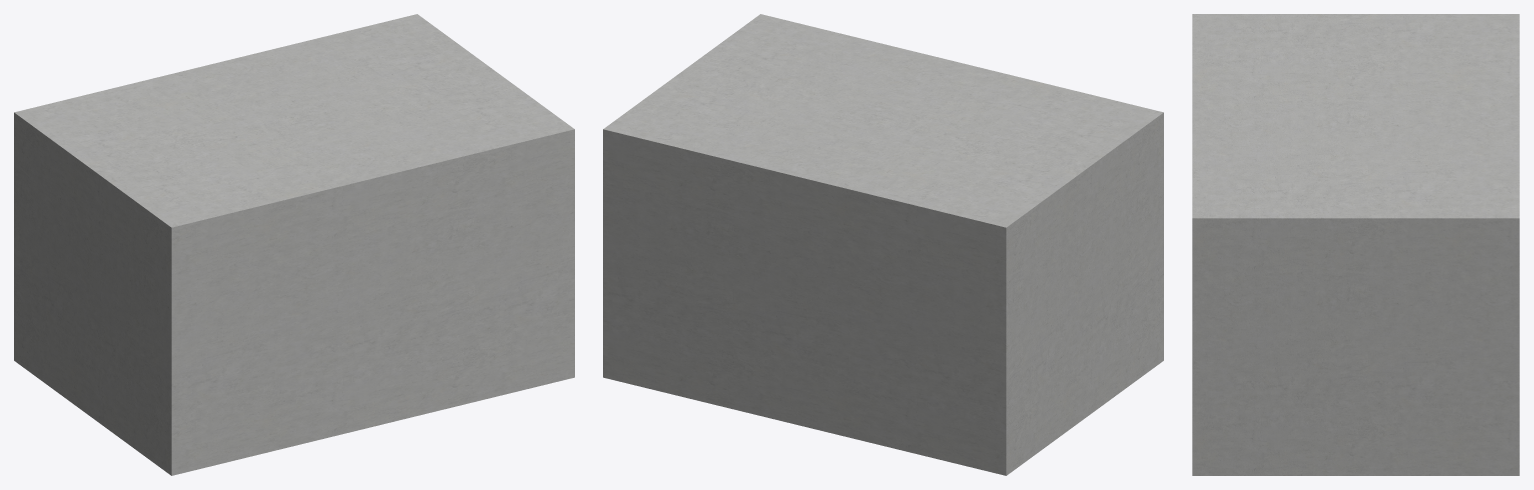
3 renders of one model, left to right at view 1: azimuth 30°, elevation 25°; view 2: azimuth 150°, elevation 25°; view 3: azimuth 270°, elevation 25°, orthographic. The views are drawn at different scales.
Visible parts, largest first — view 1: Cube; view 2: Cube; view 3: Cube.
Boxes of the visible parts, x1,y1,x2,y2 form: Cube: [14, 14, 574, 475]; Cube: [603, 14, 1163, 475]; Cube: [1192, 14, 1519, 475].
Size of the model in its own units: 3.4 by 2 by 2.3.
20 materials, 7 textured.
